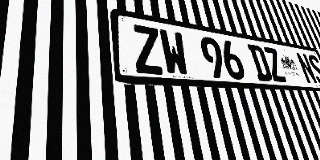6: (218, 39, 247, 80)
9: (198, 35, 228, 79)
D: (247, 44, 274, 82)
N: (295, 52, 318, 84)
S: (306, 54, 320, 85)
W: (158, 29, 191, 76)
Z: (131, 24, 165, 75), (262, 46, 288, 82)
